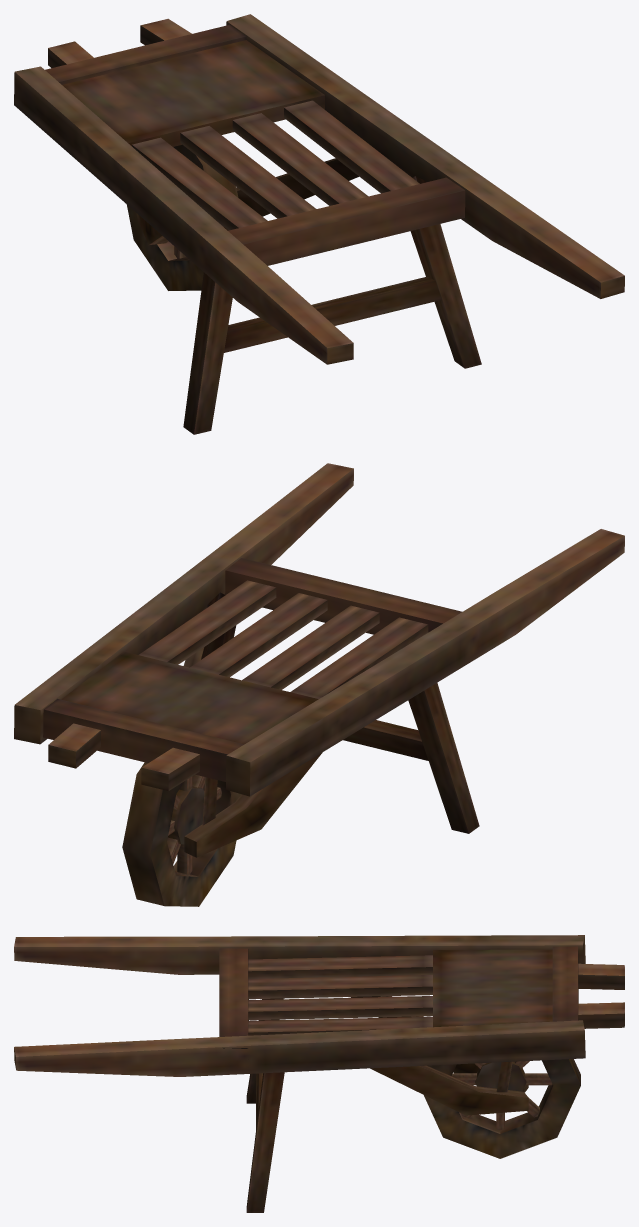
The model's file is ZW_dtc1.FBX.
3 views of the same model, one above another, from view 1: azimuth 30°, elevation 25°; view 2: azimuth 150°, elevation 25°; view 3: azimuth 270°, elevation 25° (orthographic). The views are drawn at different scales.
Visible parts, largest first — view 1: ZW_dtc; view 2: ZW_dtc; view 3: ZW_dtc.
Boxes of the visible parts, x1=… form: ZW_dtc: x1=14, y1=14, x2=624, y2=434; ZW_dtc: x1=14, y1=463, x2=624, y2=906; ZW_dtc: x1=14, y1=935, x2=624, y2=1212.
Size of the model in its own units: 111 by 73.88 by 238.
